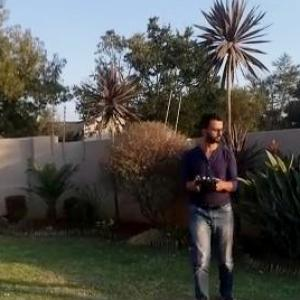follow: (180, 102, 245, 299)
